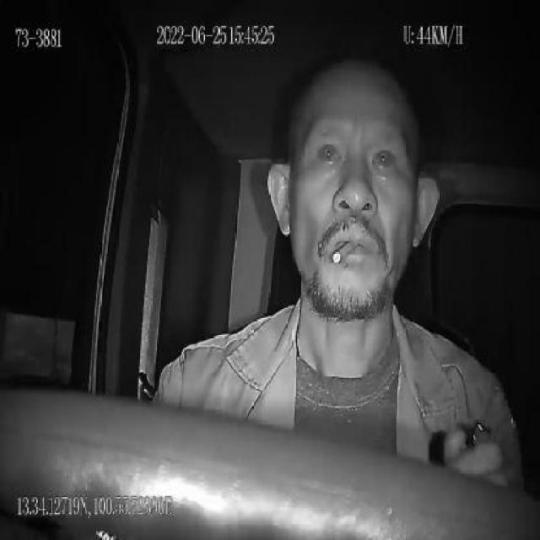smoking: (332, 241, 357, 265)
